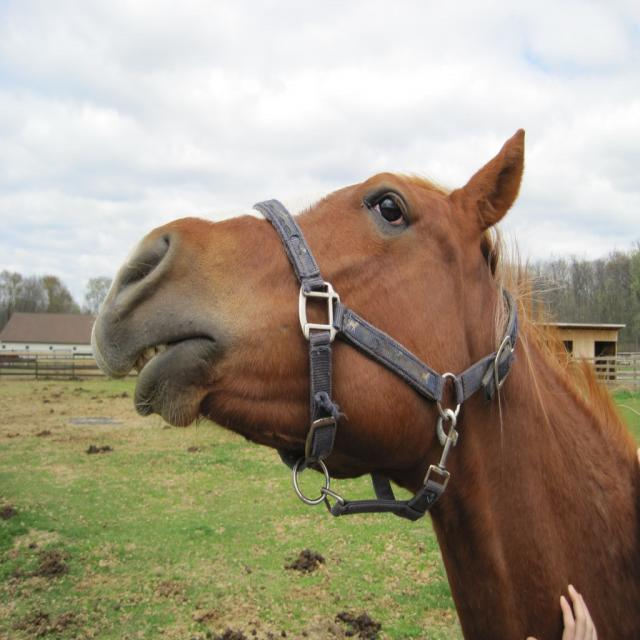Horse: (91, 130, 640, 640)
